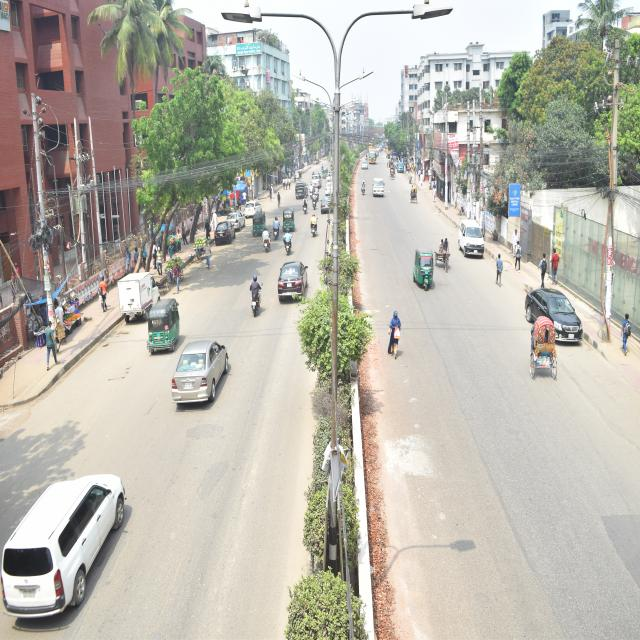car: (0, 471, 127, 622), (172, 337, 230, 412), (522, 286, 586, 347), (275, 258, 311, 303), (214, 219, 236, 245), (225, 208, 248, 230), (245, 199, 264, 220), (320, 193, 334, 214)
microbus: (458, 218, 488, 258), (370, 173, 387, 198)
motorbike: (248, 279, 263, 322), (282, 227, 292, 257), (308, 213, 318, 239), (262, 228, 271, 254), (272, 218, 280, 242), (301, 194, 309, 217), (310, 190, 318, 212), (360, 177, 367, 197)
pickup-van: (115, 271, 162, 320)
